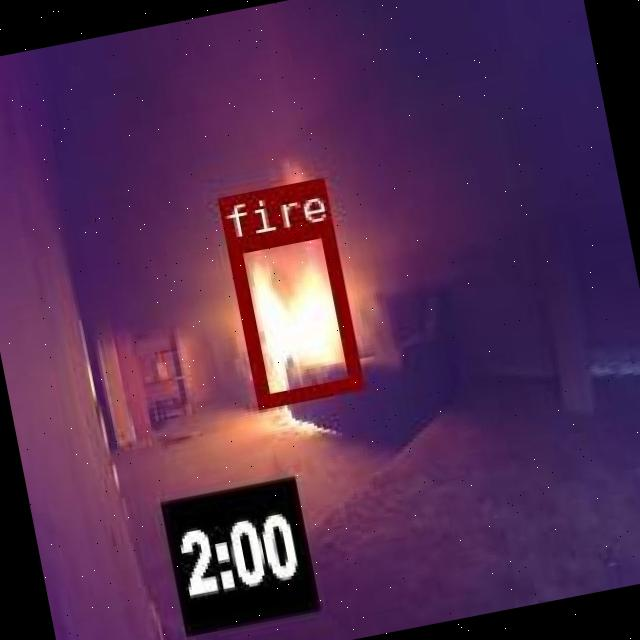fire: (225, 221, 362, 408)
